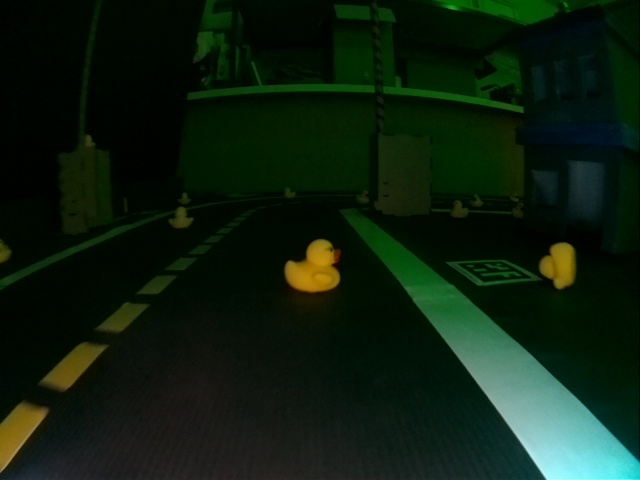Duckie: (284, 241, 339, 288), (540, 243, 576, 288), (168, 208, 188, 224), (451, 200, 467, 215), (471, 195, 481, 205), (514, 206, 523, 217), (283, 187, 292, 196), (84, 135, 94, 143), (180, 193, 190, 200), (358, 190, 366, 197)
QR code: (453, 259, 537, 286)
